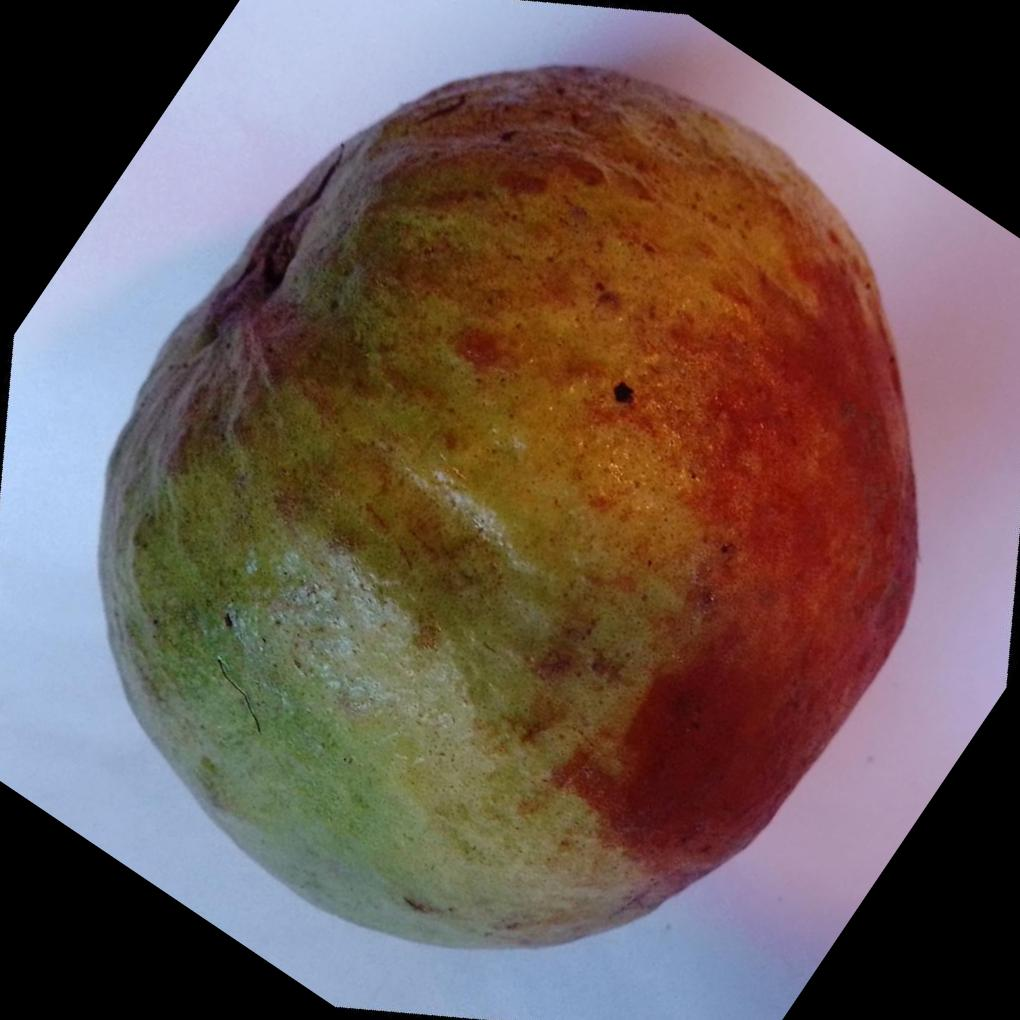FreshOrange: (93, 64, 918, 954)
